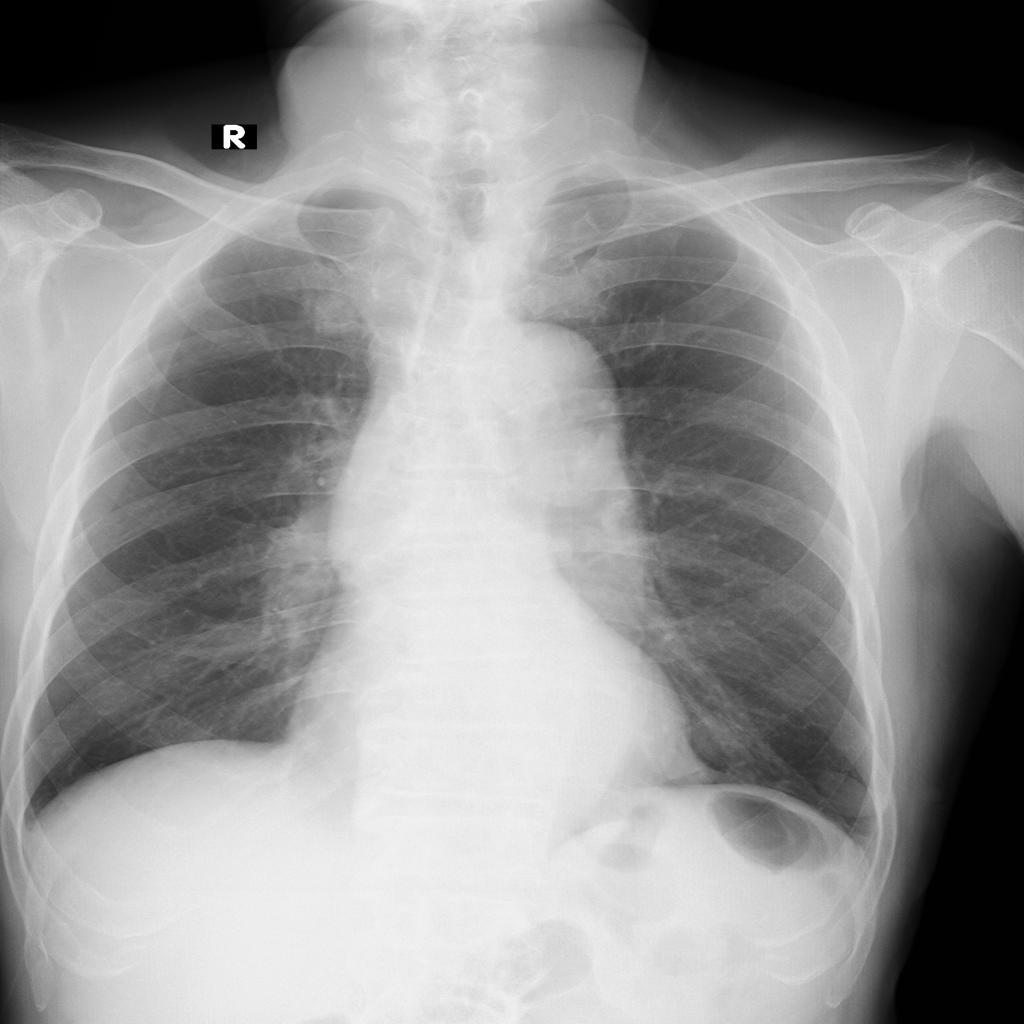Nodule: (817, 770, 880, 819)
